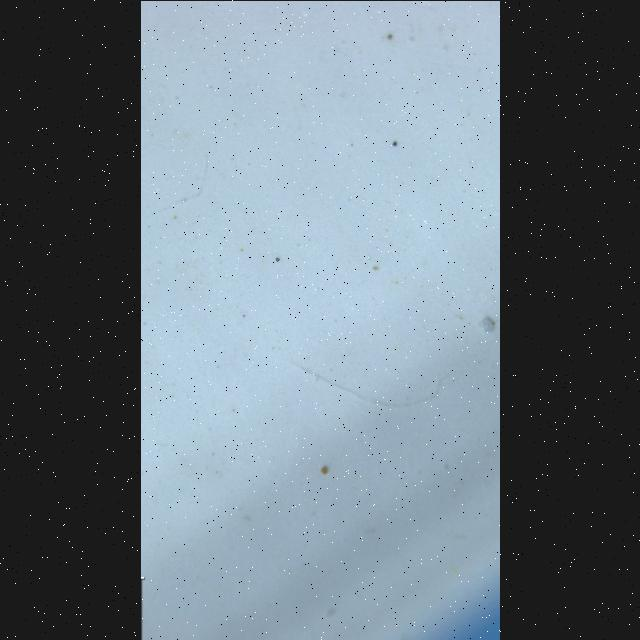Fibre: (290, 359, 448, 406)
Fragment: (479, 315, 495, 332)
